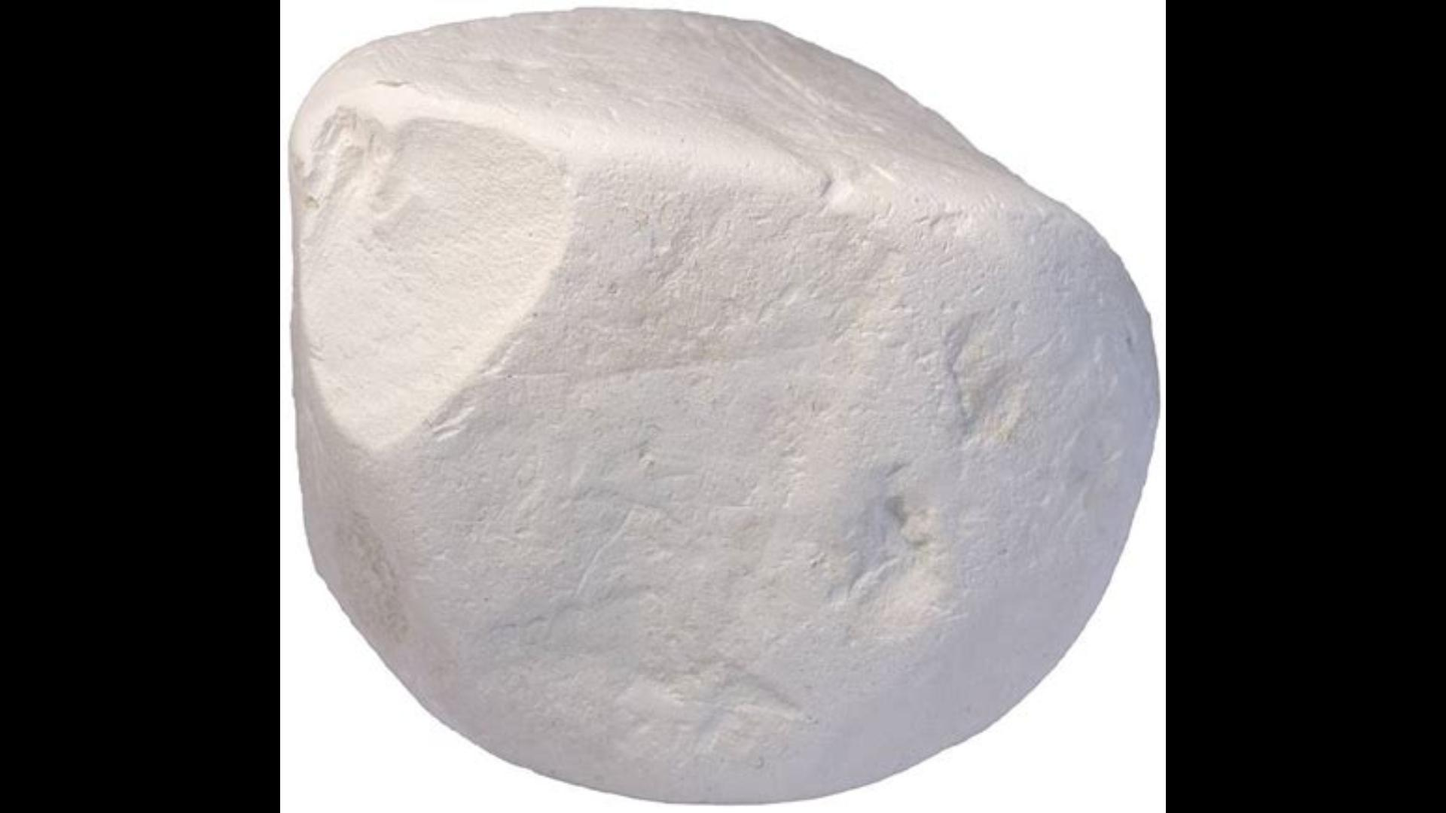rock: (291, 9, 1157, 798)
